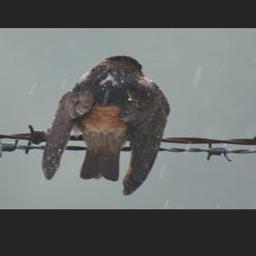Swallow: (40, 54, 172, 197)
